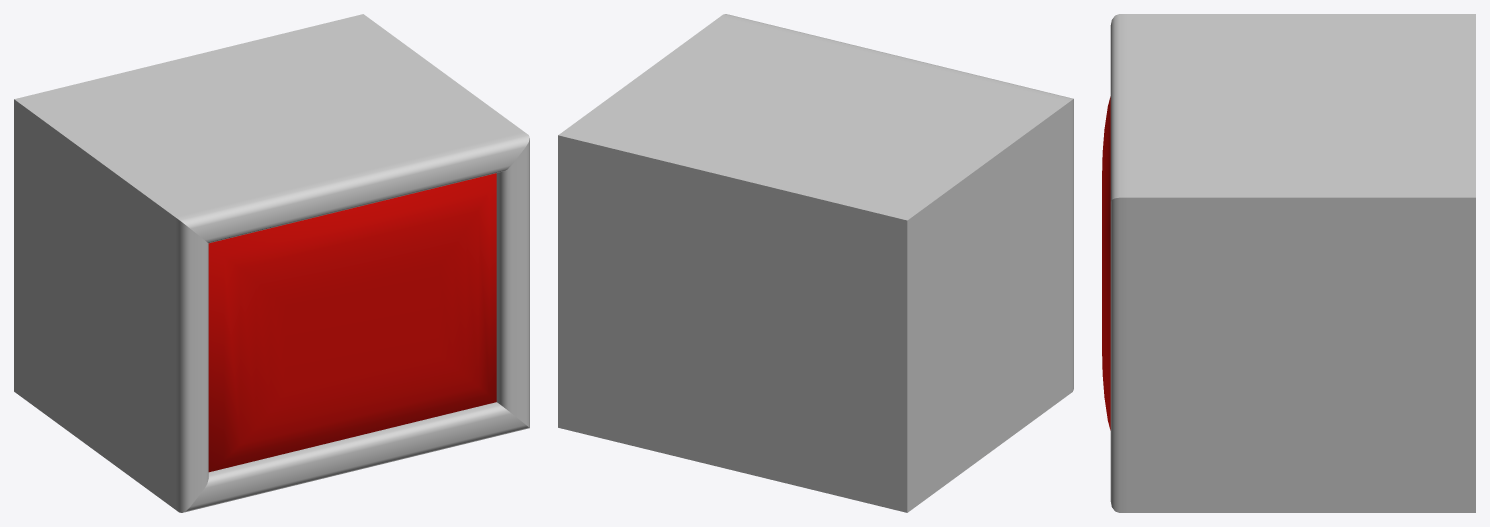
File: SM_CreditsTV.fbx
The picture shows the model from 3 angles, left to right: view 1: azimuth 30°, elevation 25°; view 2: azimuth 150°, elevation 25°; view 3: azimuth 270°, elevation 25°; orthographic projection. The views are drawn at different scales.
Parts seen in each view (by area): view 1: Cube; view 2: Cube; view 3: Cube.
Boxes of the visible parts, x1,y1,x2,y2 form: Cube: (14,14,529,512); Cube: (558,14,1073,512); Cube: (1102,14,1475,512).
Bounding box in the file's own units: 50 × 40 × 43.
